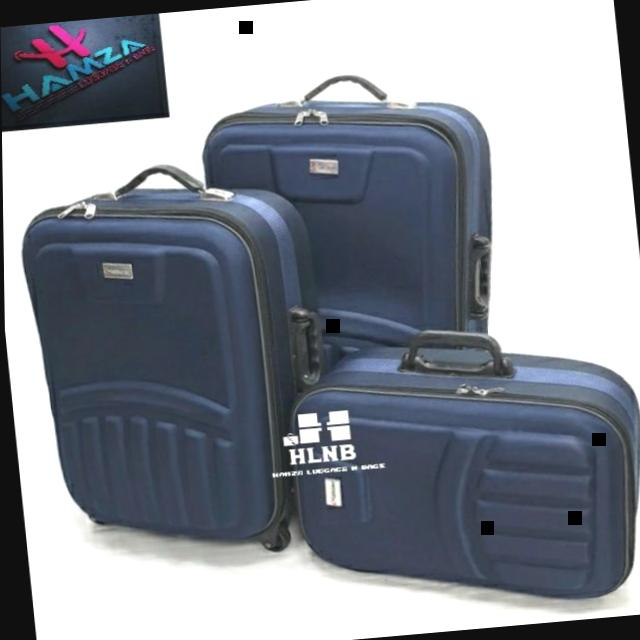luggage: (5, 167, 348, 566), (267, 315, 640, 631), (187, 81, 515, 365)
